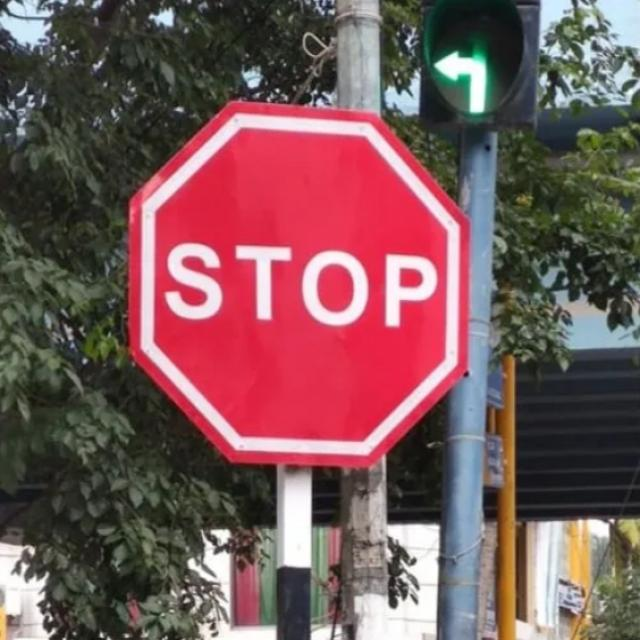stop-sign: (146, 91, 495, 458)
